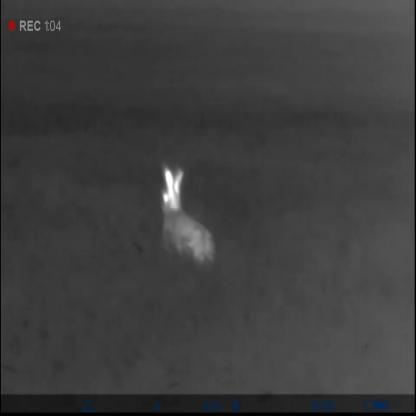rehkitze: (161, 165, 220, 270)
